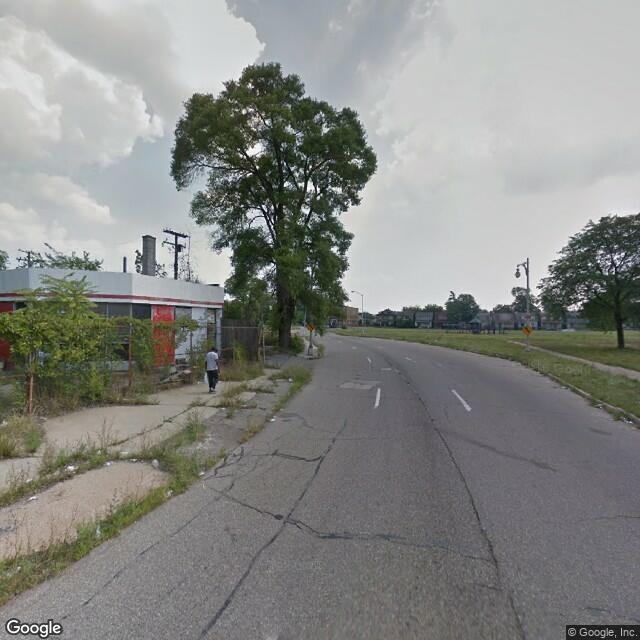litter: (148, 455, 168, 470), (94, 523, 107, 540), (160, 486, 175, 498), (65, 458, 77, 472), (103, 459, 117, 471), (268, 414, 279, 425), (278, 375, 295, 382), (126, 456, 142, 463), (28, 493, 40, 502), (1, 416, 10, 428), (23, 477, 38, 482), (196, 472, 207, 478)
